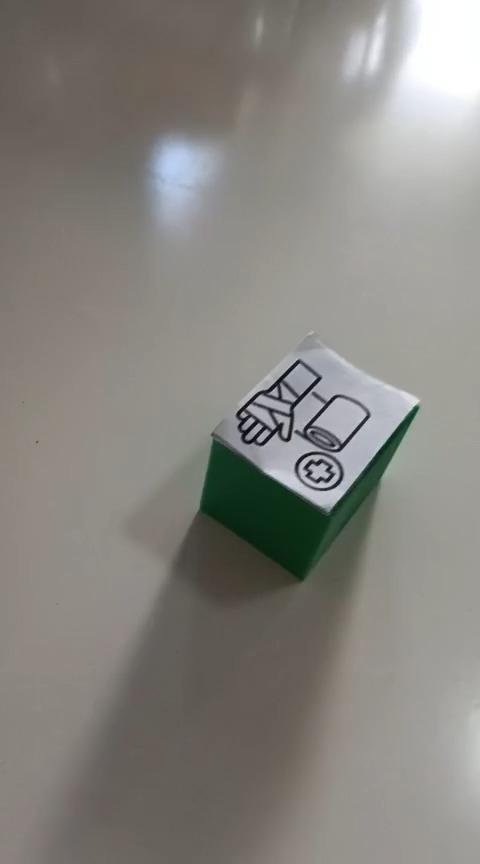Bandages: (197, 329, 421, 581)
